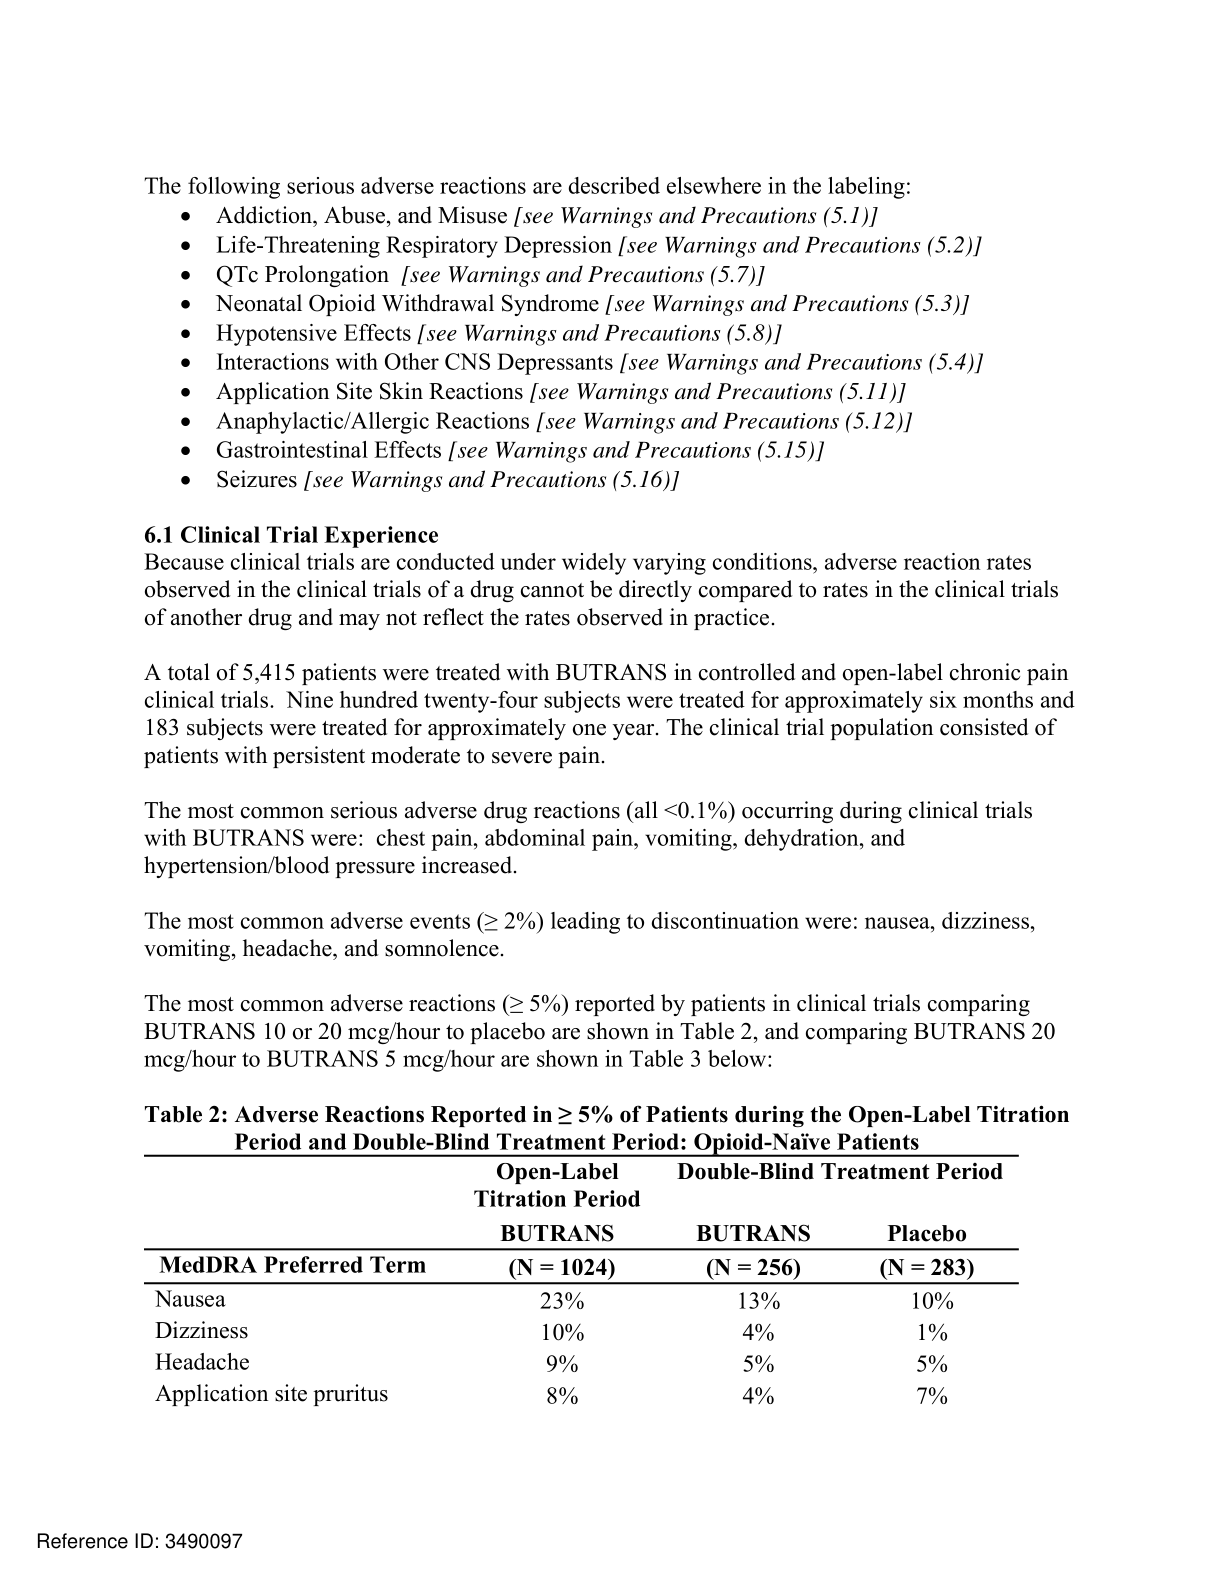partial_lined: (141, 1152, 1020, 1410)
